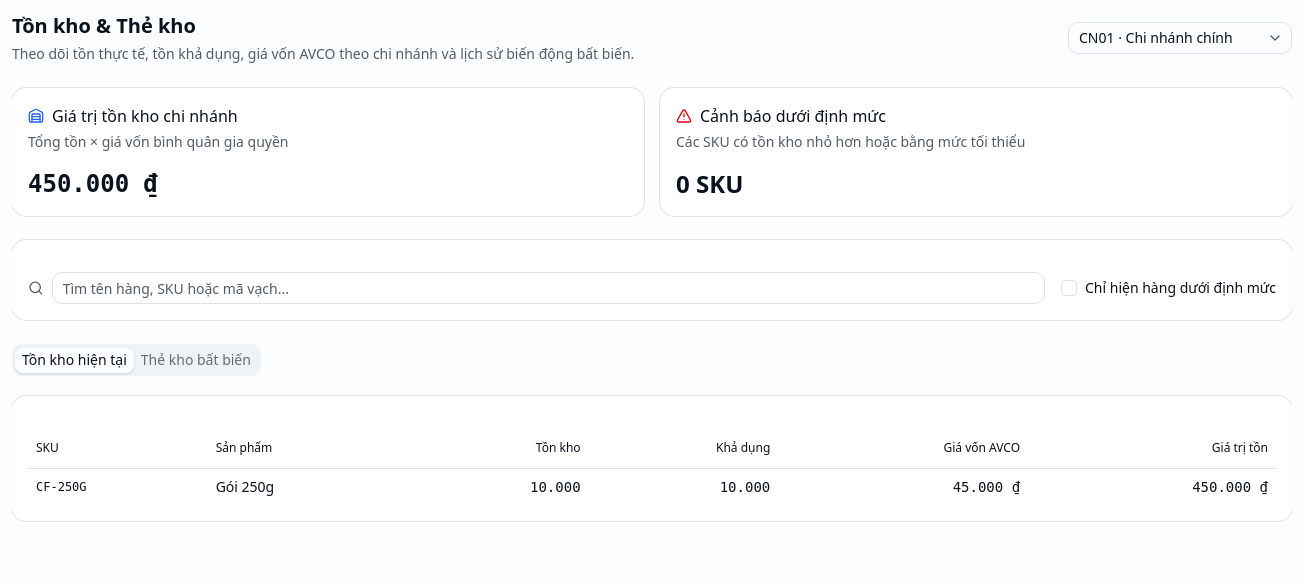
Test case: Phase 2 Catalog & Inventory Management Pages › renders InventoryPage stock summary and immutable ledger tab
Expected: the text "CF-250G" is shown, [28,468,208,504]
Expected: the text "450.000 ₫" is shown, [28,170,158,198]
Click the tab "Thẻ kho bất biến". click: point(196, 360)
box: [134,348,258,372]
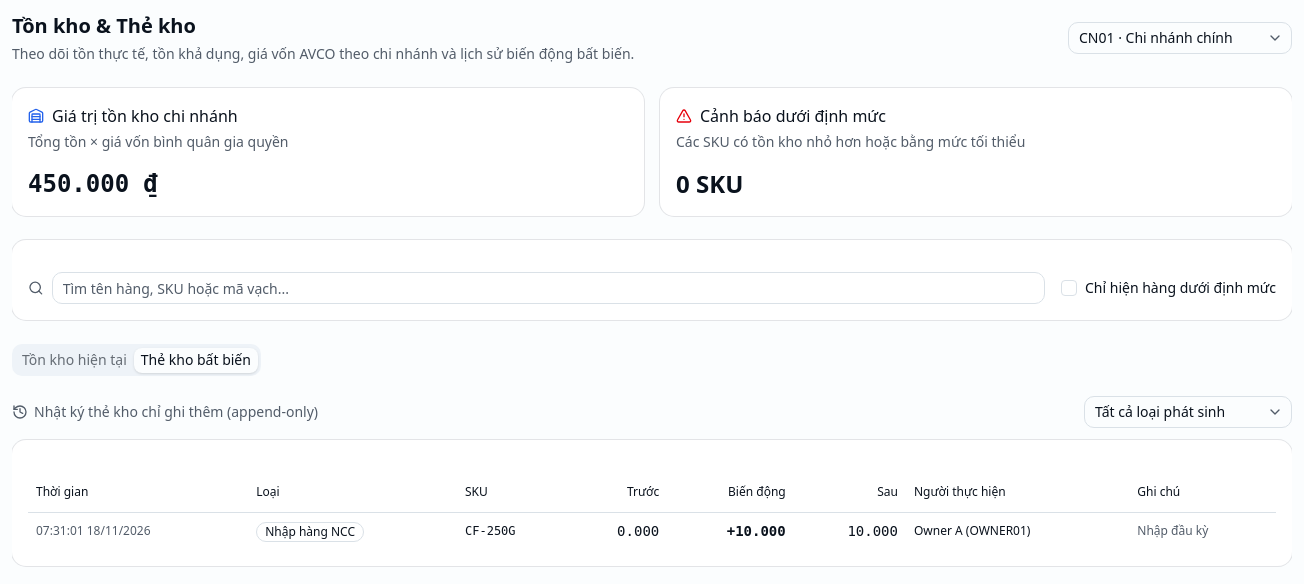
Now the text "Nhập đầu kỳ" is shown, box [1129,512,1276,550]
